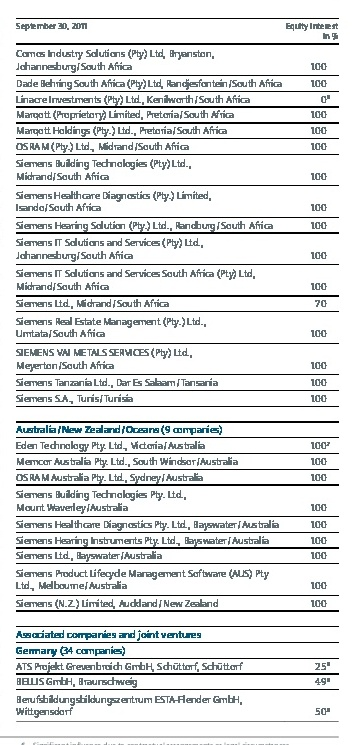table: (0, 0, 358, 745)
